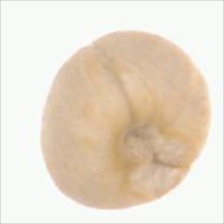L4: (40, 31, 211, 210)
